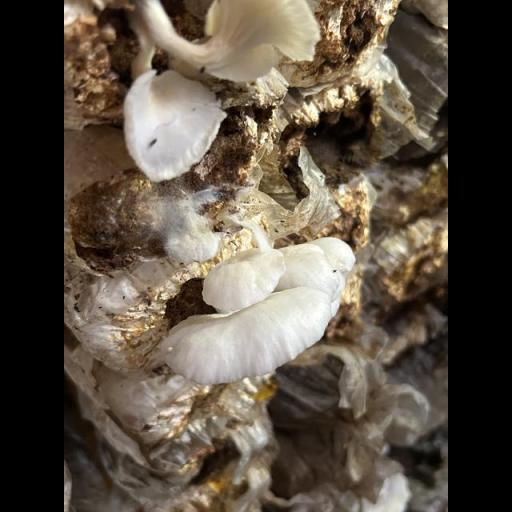White Oyster Mushroom: (119, 2, 322, 181), (162, 236, 354, 384)
